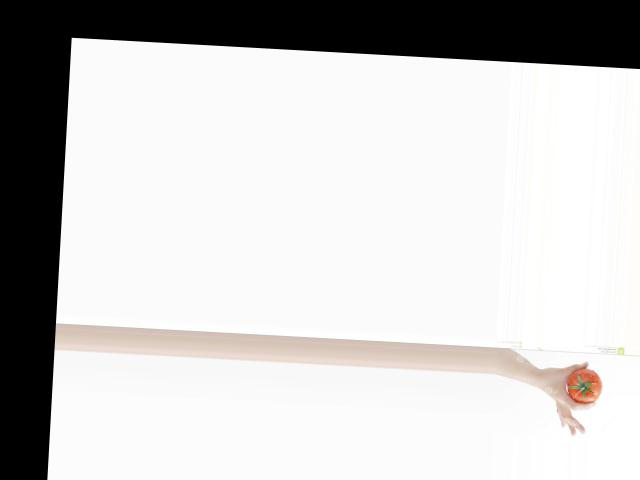tomato: (566, 367, 602, 404)
